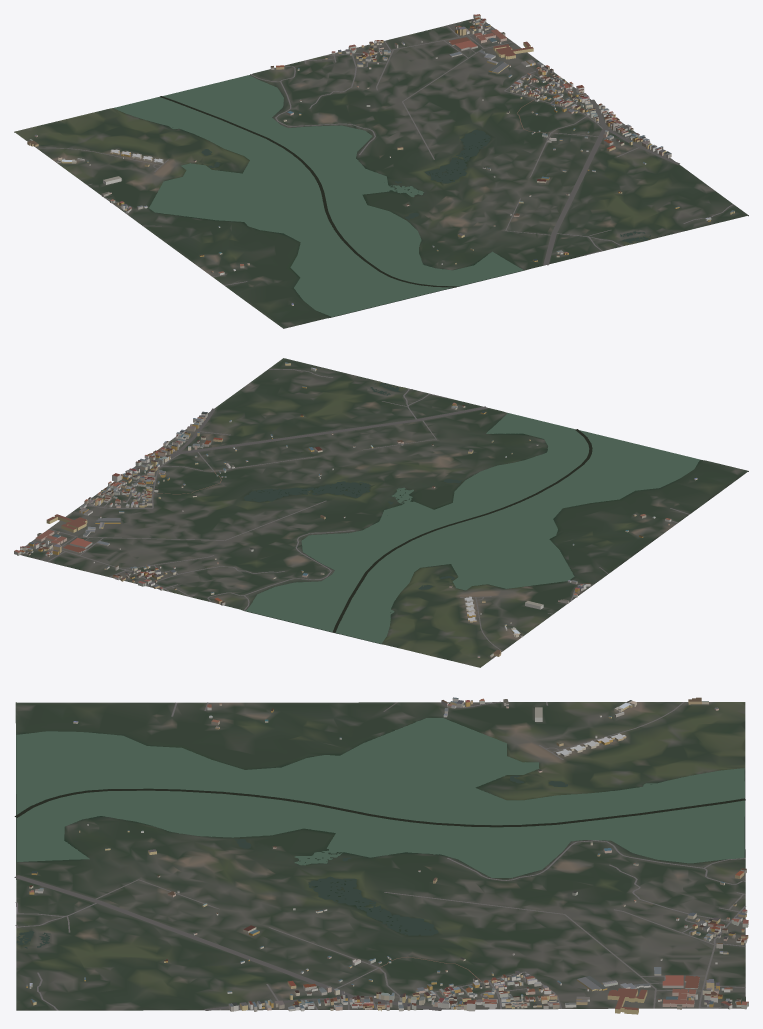
The picture shows the model from 3 angles, top to bottom: view 1: azimuth 30°, elevation 25°; view 2: azimuth 150°, elevation 25°; view 3: azimuth 270°, elevation 25°; orthographic projection. The views are drawn at different scales.
Visible parts, largest first — view 1: ground, water, buildings, roads; view 2: ground, water, buildings, roads; view 3: ground, water, buildings, roads.
Boxes of the visible parts, box(x1,y1,x2,y2) form: ground: box(14, 18, 748, 328); water: box(114, 75, 650, 316); buildings: box(27, 14, 734, 305); roads: box(37, 24, 733, 285); ground: box(20, 358, 748, 667); water: box(244, 383, 699, 643); buildings: box(14, 362, 697, 657); roads: box(25, 369, 689, 651); ground: box(15, 702, 745, 1010); water: box(14, 718, 745, 948); buildings: box(26, 697, 748, 1014); roads: box(14, 701, 745, 1010).
Size of the model in its own units: 1431 by 24.18 by 1413.
